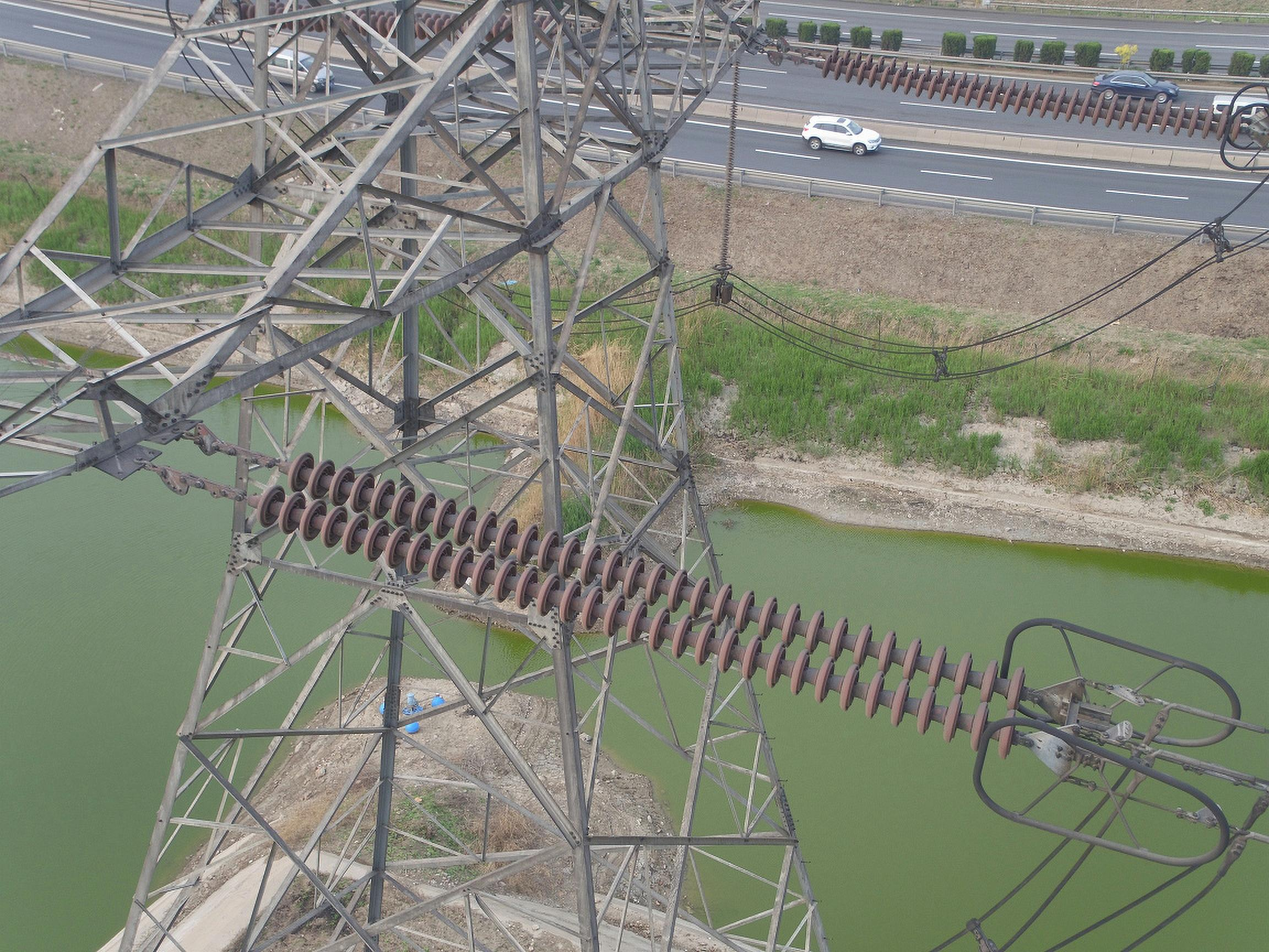insulator: (248, 450, 1032, 762), (819, 46, 1245, 144), (235, 1, 561, 44), (718, 58, 742, 268)
